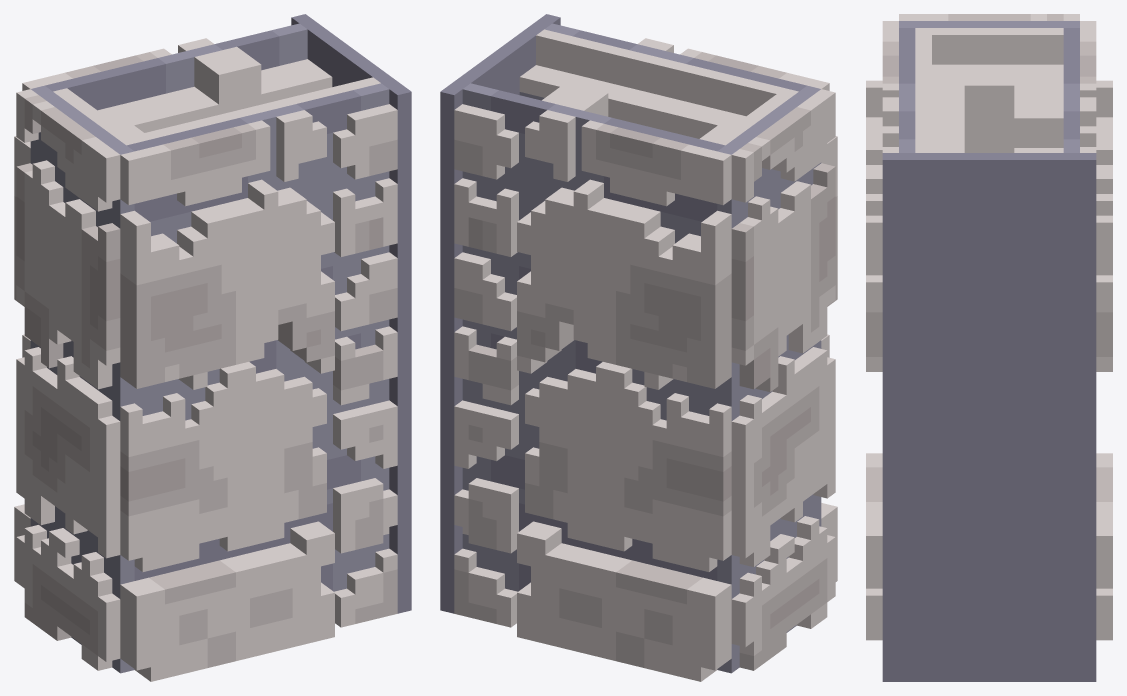
Rendered from WallDrawbridge2Left.obj.
3 renders of one model, left to right at view 1: azimuth 30°, elevation 25°; view 2: azimuth 150°, elevation 25°; view 3: azimuth 270°, elevation 25°, orthographic.
Bounding box in the file's own units: 2.1 × 3.5 × 1.5.
1 material, 1 textured.
